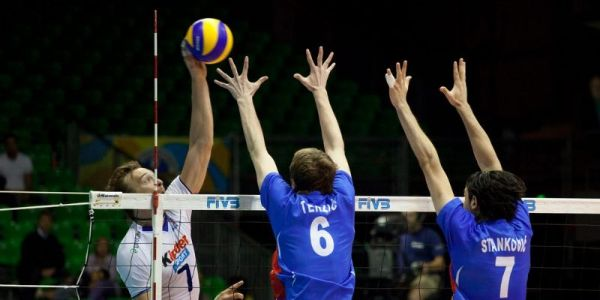voleibol: (185, 17, 233, 63)
